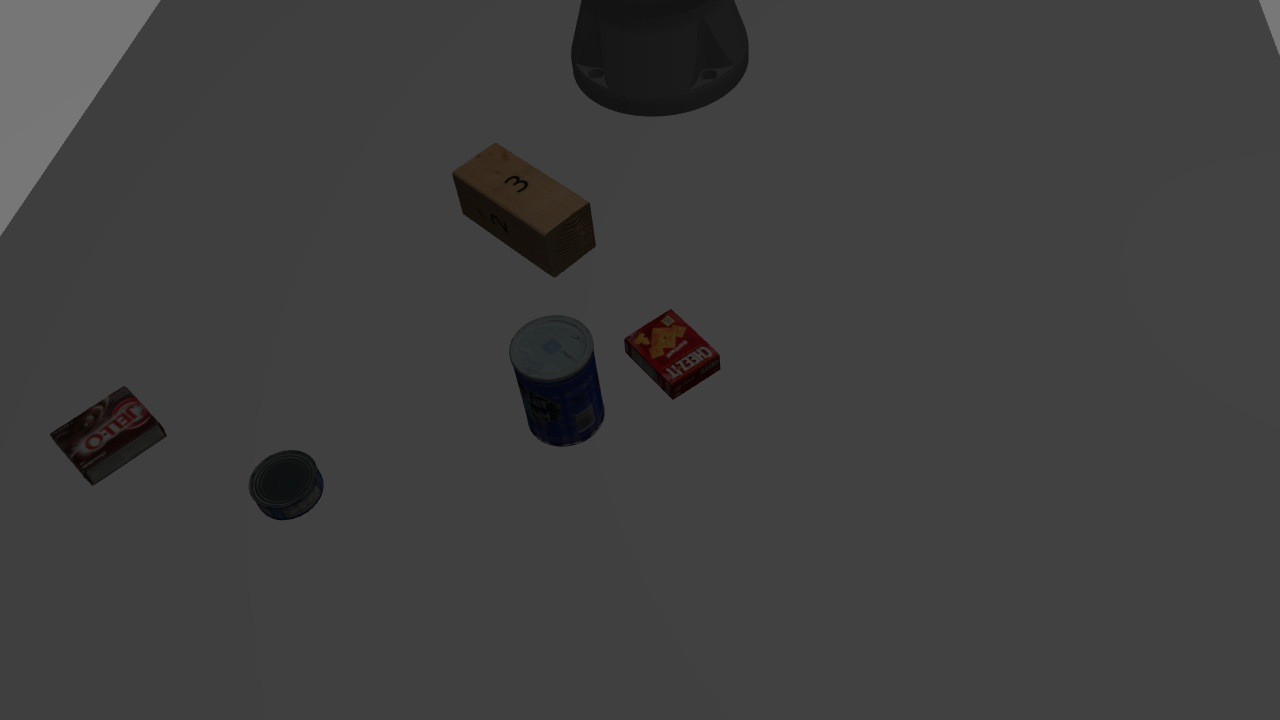cracker_box: (618, 315, 730, 391)
master_chef_can: (505, 310, 609, 449)
pudding_box: (45, 384, 168, 486)
spoon: (209, 462, 496, 609)
tuna_fish_can: (242, 447, 329, 517)
wood_block: (449, 140, 599, 278)
